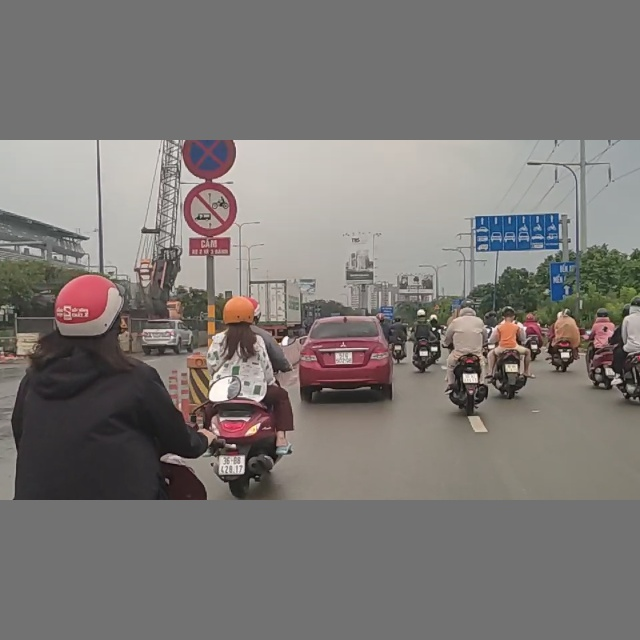P.111: (184, 183, 236, 235)
P.130: (182, 140, 236, 179)
